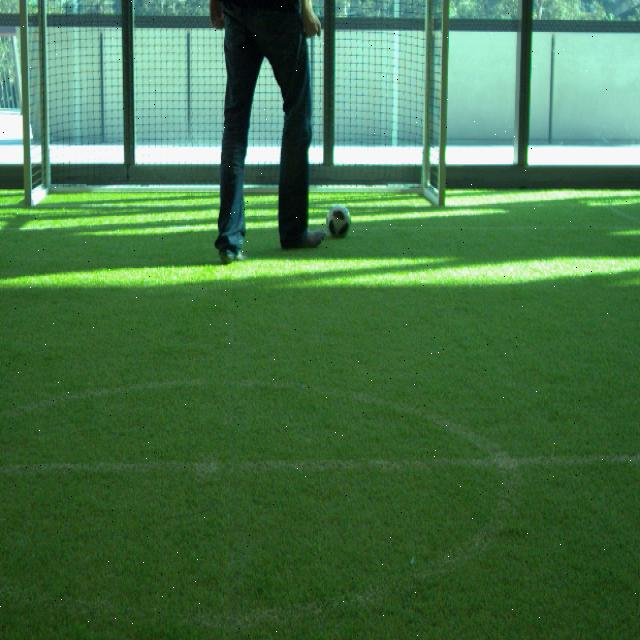ball: (326, 206, 351, 238)
goalpost: (19, 2, 34, 205), (438, 0, 452, 205)
